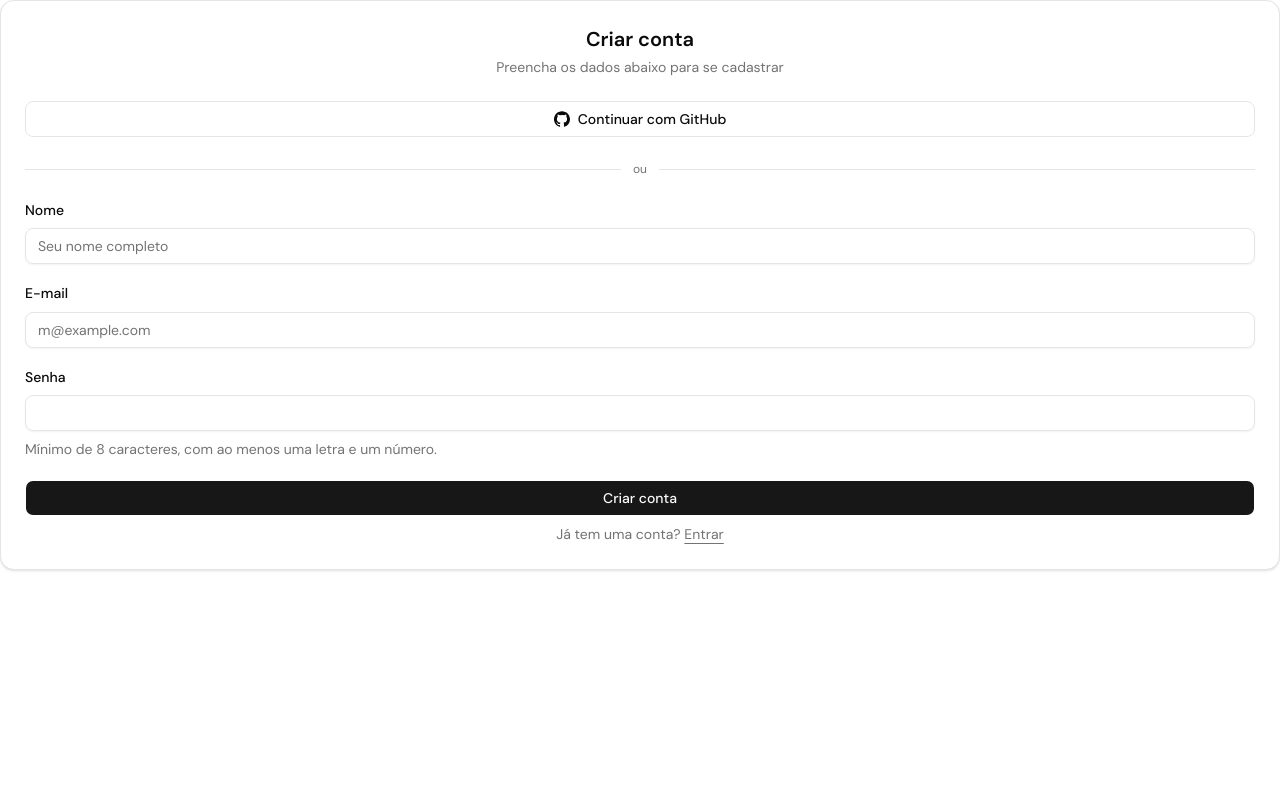
CadastroForm › validação client-side (Zod) › rejeita senha sem número
The width and height of the screenshot is (1280, 800).
Type "Maria Silva" into the field labelled "Nome" at (640, 246), box [25,228,1255,264]
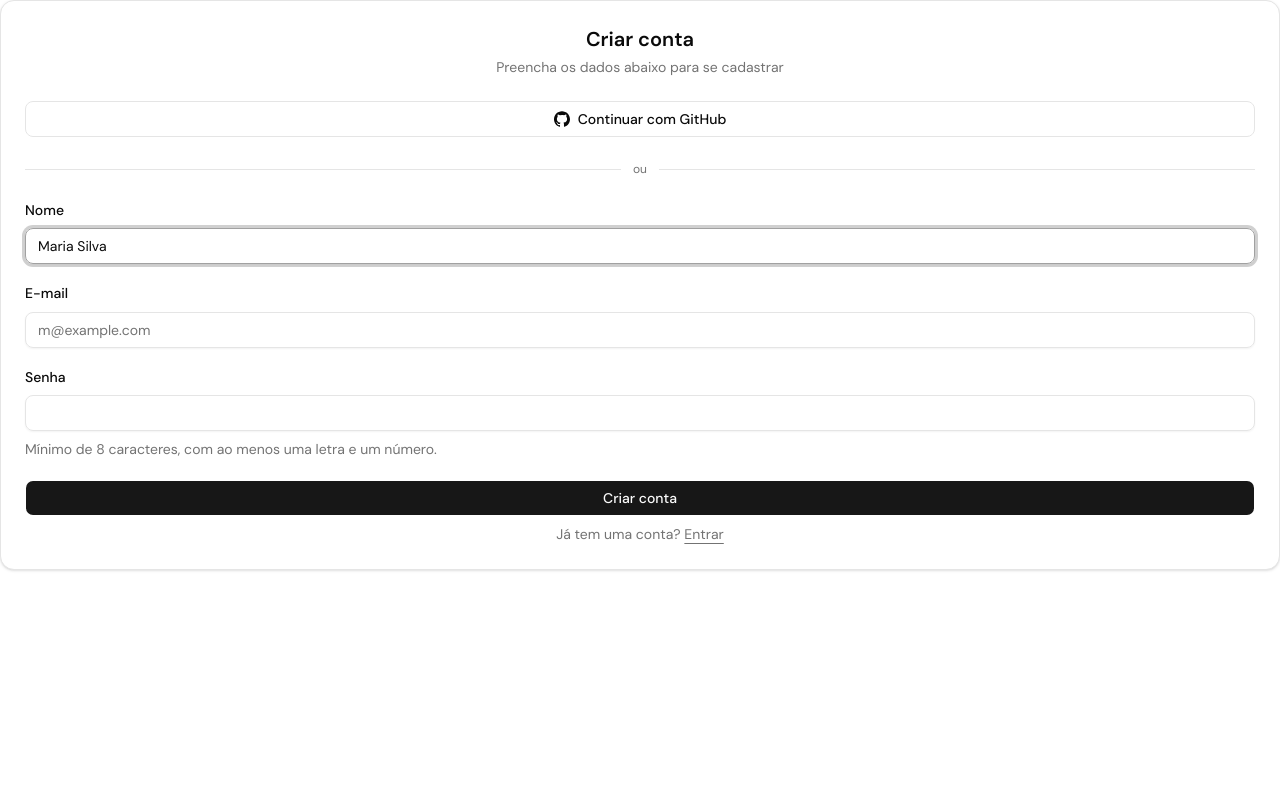
Type "maria@example.com" into the field labelled "E-mail" at (640, 330), box [25,312,1255,348]
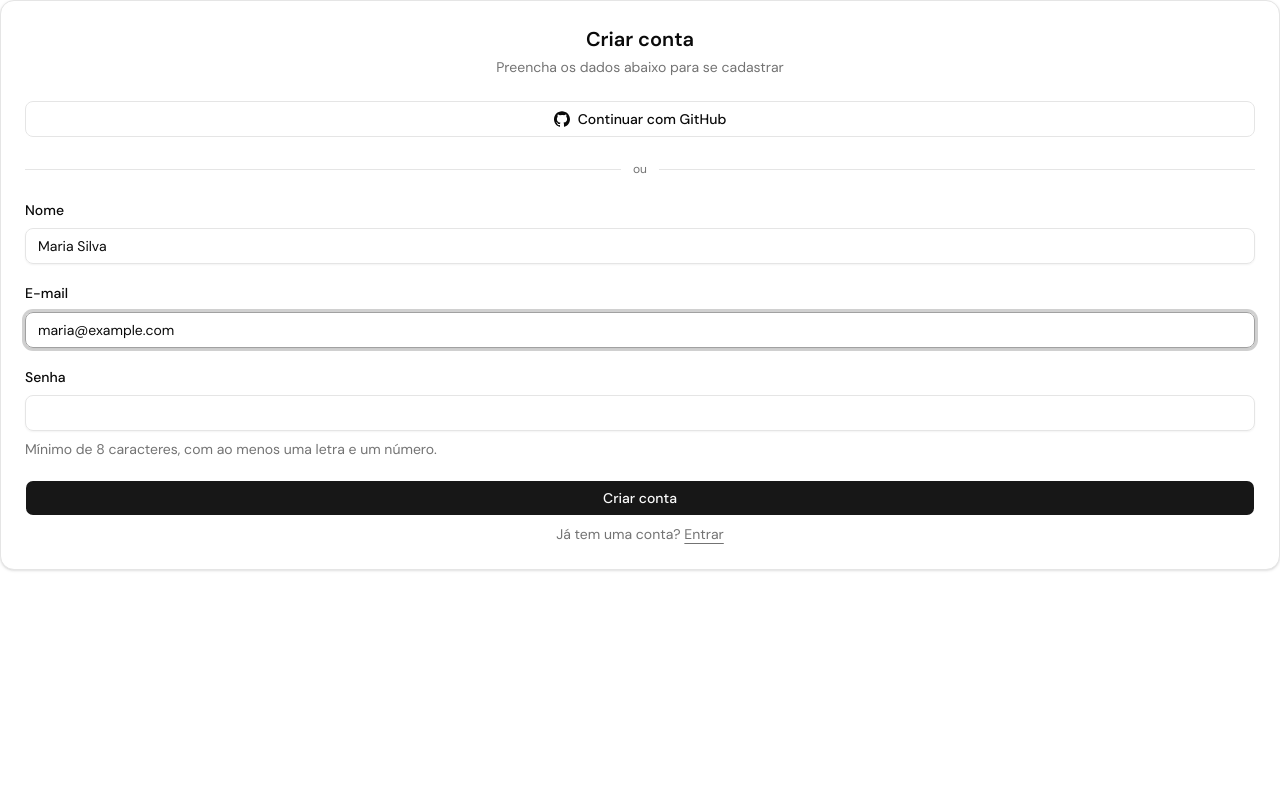
Type "somenteletras" into the password field labelled "Senha" at (640, 413), box [25,395,1255,431]
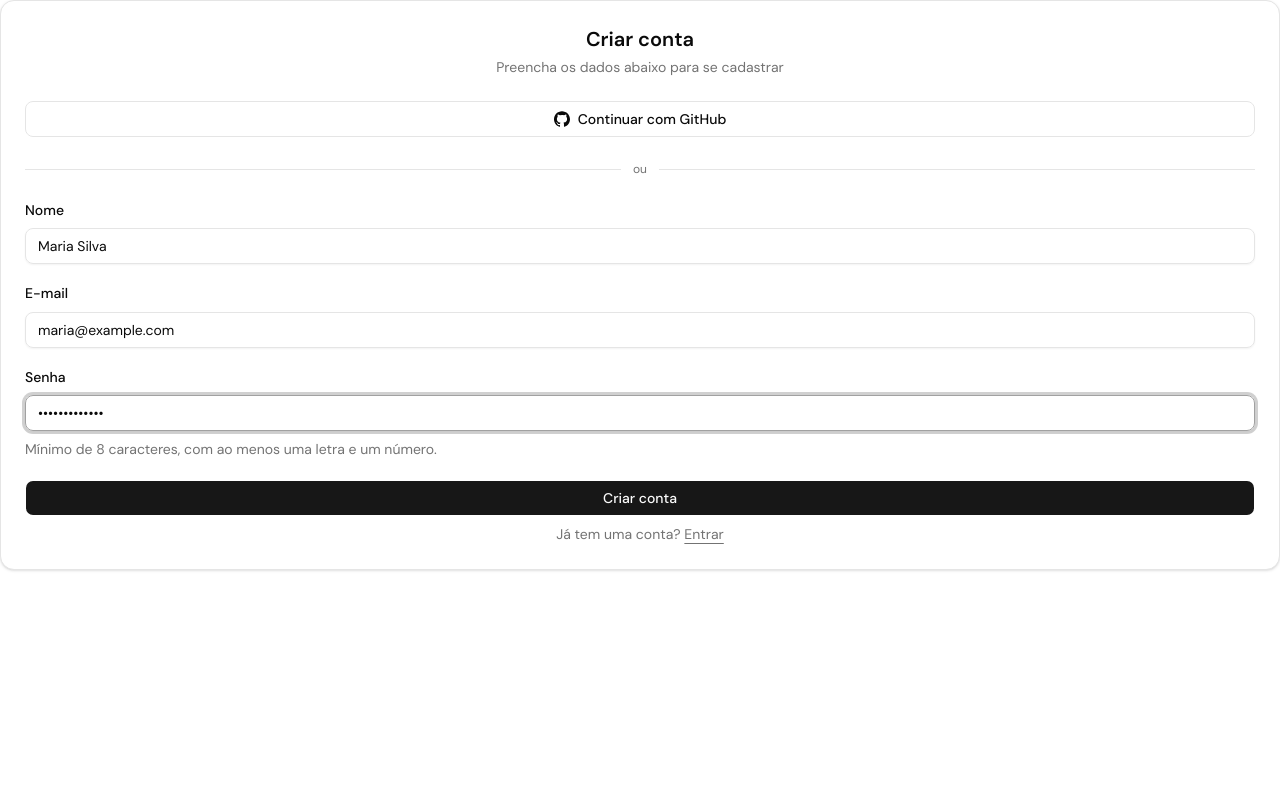
Click the button "Criar conta" at (640, 498), box [25,480,1255,516]
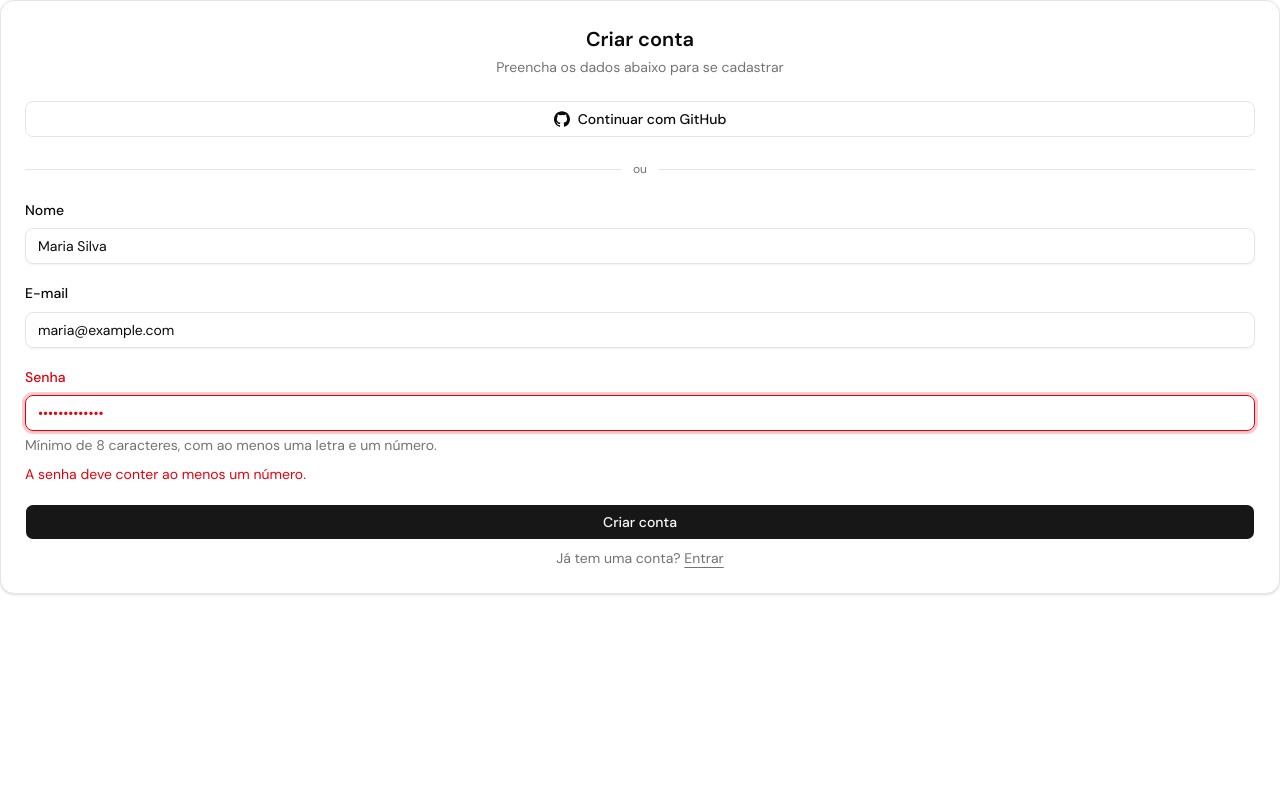
Now the text "A senha deve conter ao menos um número." is shown, box [25,465,306,483]
